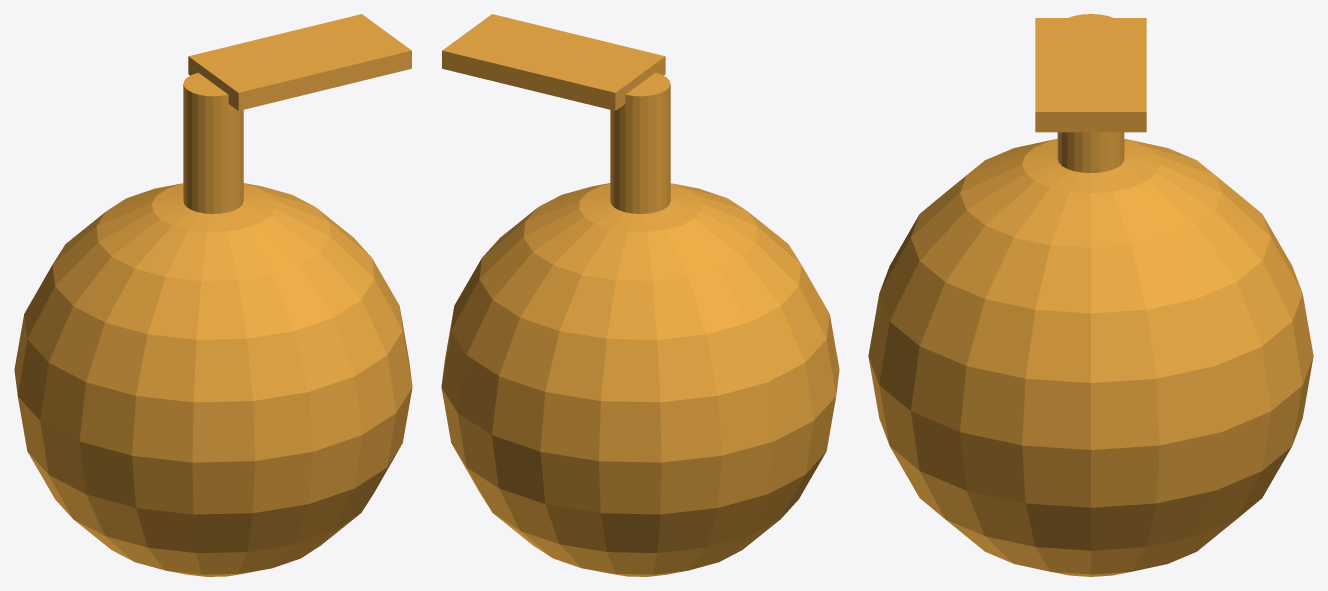
The model's file is g_orange.glb.
The picture shows the model from 3 angles, left to right: view 1: azimuth 30°, elevation 25°; view 2: azimuth 150°, elevation 25°; view 3: azimuth 270°, elevation 25°; orthographic projection. The views are drawn at different scales.
Parts seen in each view (by area): view 1: g_orange; view 2: g_orange; view 3: g_orange.
Part boxes in pixels (x1=…): g_orange: x1=14, y1=14, x2=412, y2=576; g_orange: x1=441, y1=14, x2=839, y2=576; g_orange: x1=868, y1=14, x2=1313, y2=576.
Bounding box in the file's own units: 0.08 × 0.107 × 0.08.
